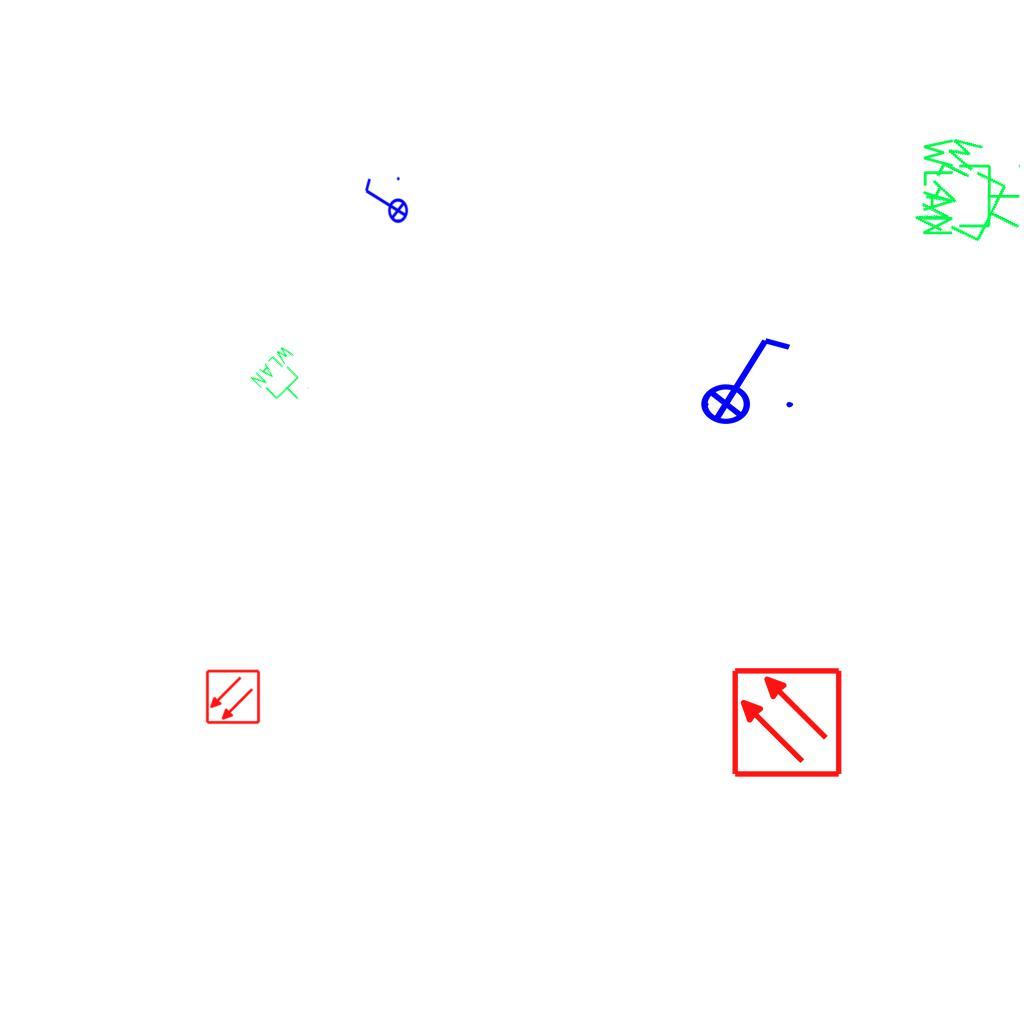Ausschalter_beleuchtet: (687, 330, 799, 426), (361, 174, 409, 230)
RMO_Rauchmelder_optischer: (730, 666, 843, 779), (205, 669, 261, 725)
WLAN: (909, 126, 1024, 267), (919, 134, 1023, 239), (247, 341, 321, 415)
